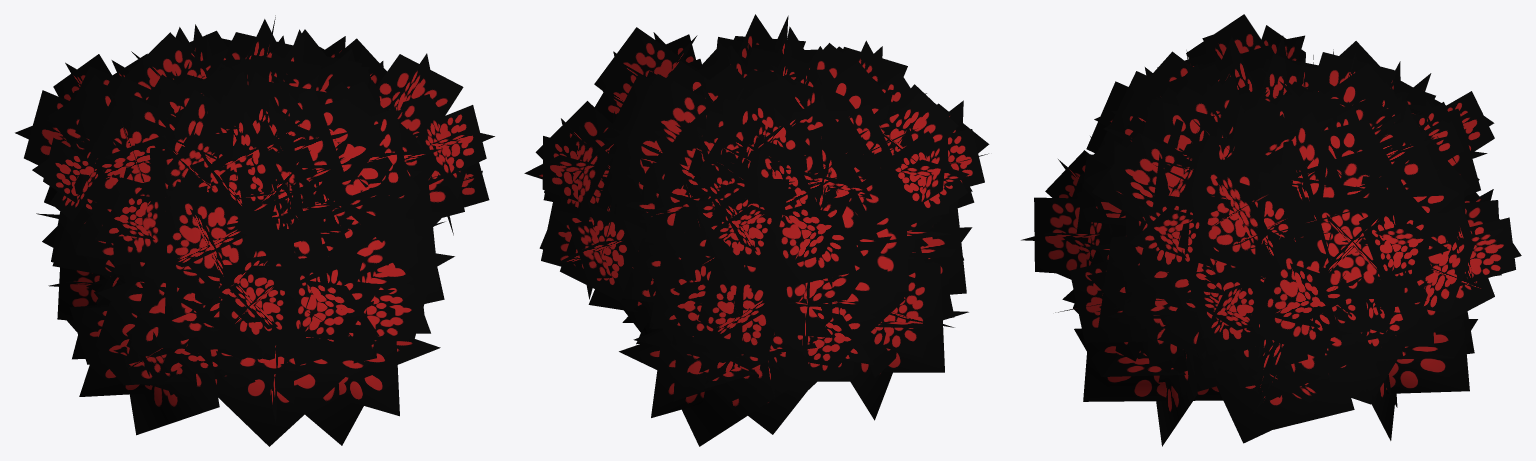
The model's file is bush_common.gltf.
The picture shows the model from 3 angles, left to right: view 1: azimuth 30°, elevation 25°; view 2: azimuth 150°, elevation 25°; view 3: azimuth 270°, elevation 25°; orthographic projection. The views are drawn at different scales.
Visible parts, largest first — view 1: Bush_Common; view 2: Bush_Common; view 3: Bush_Common.
Boxes of the visible parts, <box> form: Bush_Common: <box>15,15,494,446</box>; Bush_Common: <box>524,14,989,446</box>; Bush_Common: <box>1021,14,1521,446</box>.
Bounding box in the file's own units: 1.91 × 1.58 × 1.97.
1 material, 1 textured.
